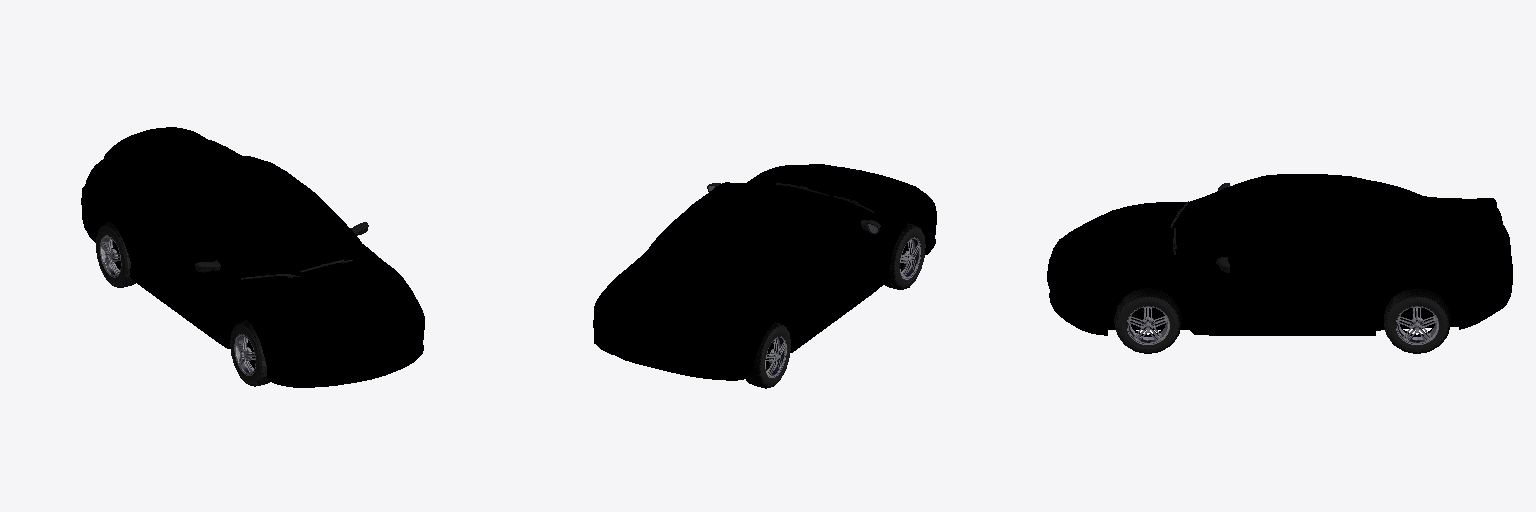
The picture shows the model from 3 angles: view 1: azimuth 30°, elevation 25°; view 2: azimuth 150°, elevation 25°; view 3: azimuth 270°, elevation 25°; orthographic projection.
Parts seen in each view (by area): view 1: wheels_n_acc.003; view 2: wheels_n_acc.003; view 3: wheels_n_acc.003.
Boxes of the visible parts, <box> form: wheels_n_acc.003: <box>81,127,424,387</box>; wheels_n_acc.003: <box>593,164,936,388</box>; wheels_n_acc.003: <box>1047,174,1512,353</box>.
Bounding box in the file's own units: 6.25 × 4.34 × 14.67.
2 materials, 1 textured.